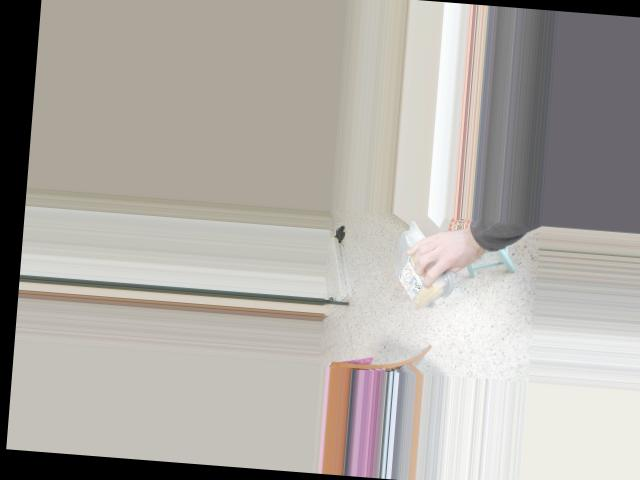cheese: (397, 225, 443, 319)
